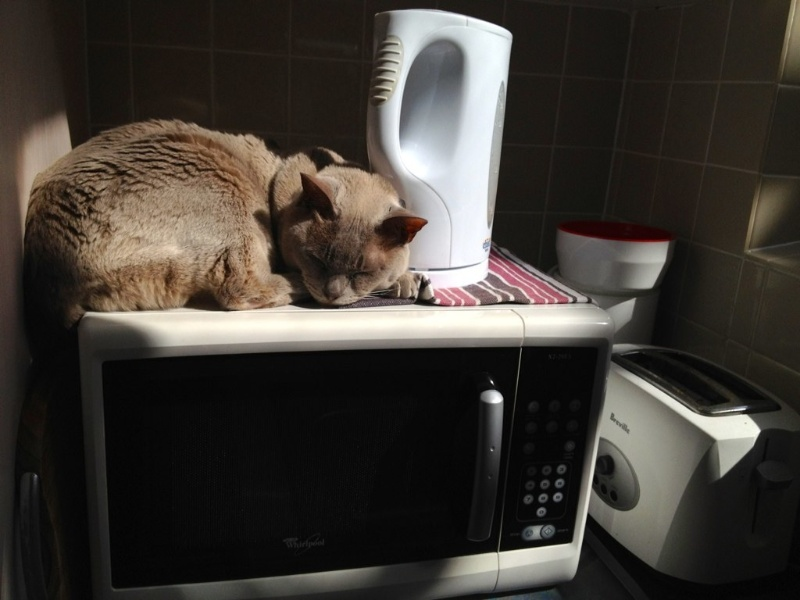cat: (15, 116, 429, 325)
